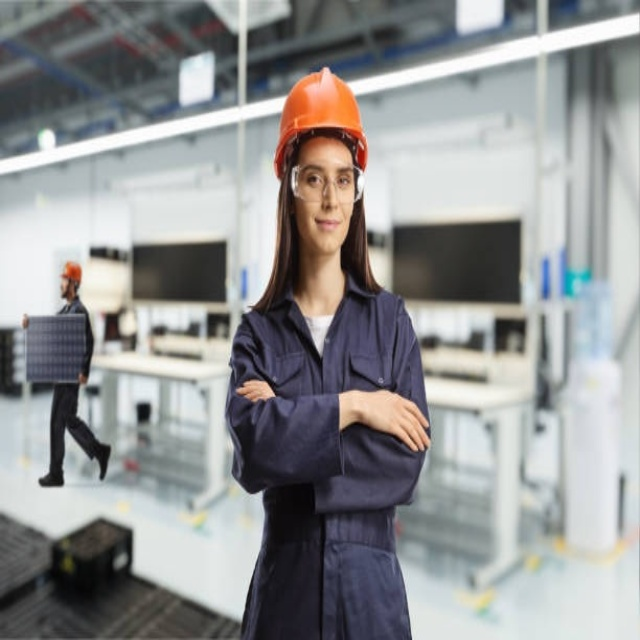Gafas: (288, 162, 367, 204)
Sin_guantes: (349, 376, 433, 458)
Sin_mascara: (312, 212, 344, 248)
